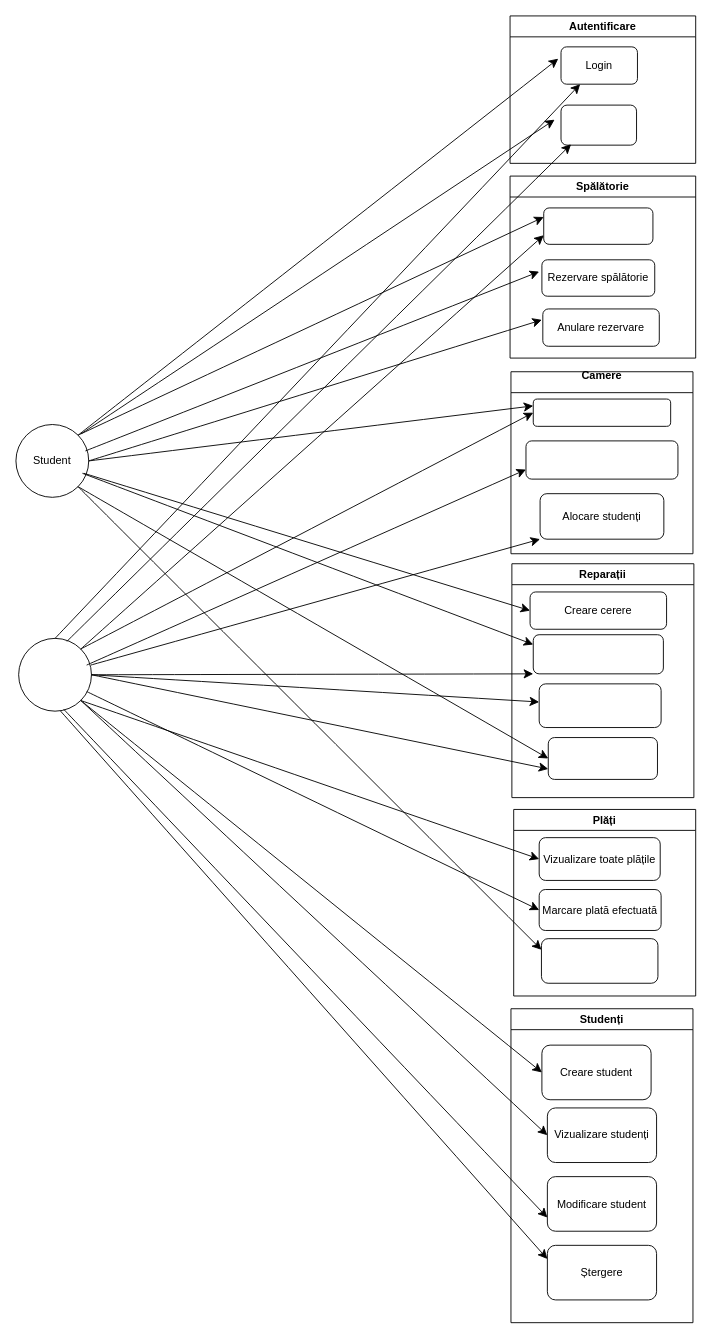
Some shapes in this 712 by 1339 pixel diagram are drawn without their labels. Each missing label, with the centre of its shape:
Actualizare status: the point at 599,705
Administrator: the point at 54,674
Logout: the point at 598,124
Trimitere mesaj: the point at 602,758
Vizualizare camere: the point at 601,412
Vizualizare cereri: the point at 597,654
Vizualizare plăți proprii: the point at 599,960
Vizualizare rezervării: the point at 598,225
Vizualizare studenți cameră: the point at 601,459
